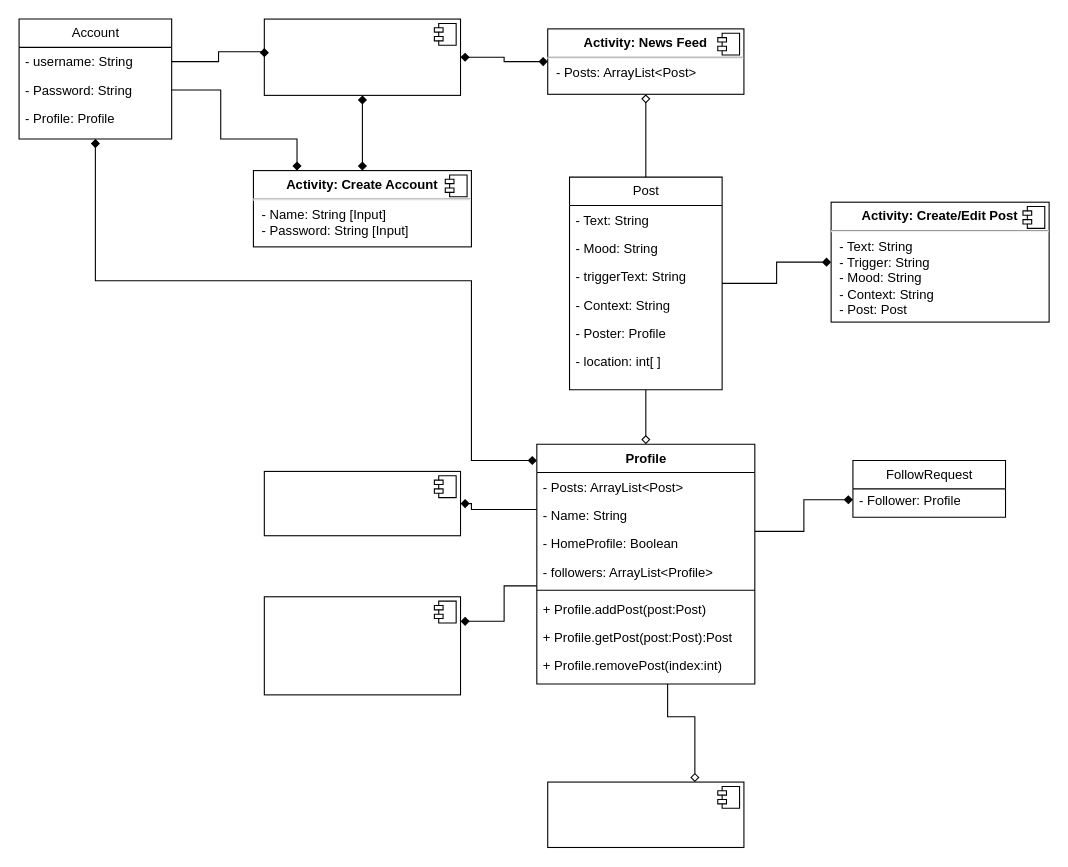
Image size: 1068x867. Some labels were removed from this diagram. Here are the shapes that lost their labels. From the top down, the centre of each, then its label:
the point at 362,56: Activity: Sign In - Name: String [Input] - Password: String [Input]
the point at 362,503: Activity: View Profile - Profile: Profile
the point at 362,645: Activity: Edit Profile - Name: String - Password: String - Profile: Profile
the point at 645,814: Activity: Following - Followed: ArrayList<Profile>
